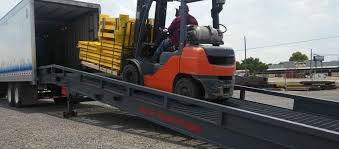Pallet Jack: (80, 1, 236, 105)
Yard Ramp: (40, 64, 335, 149)
